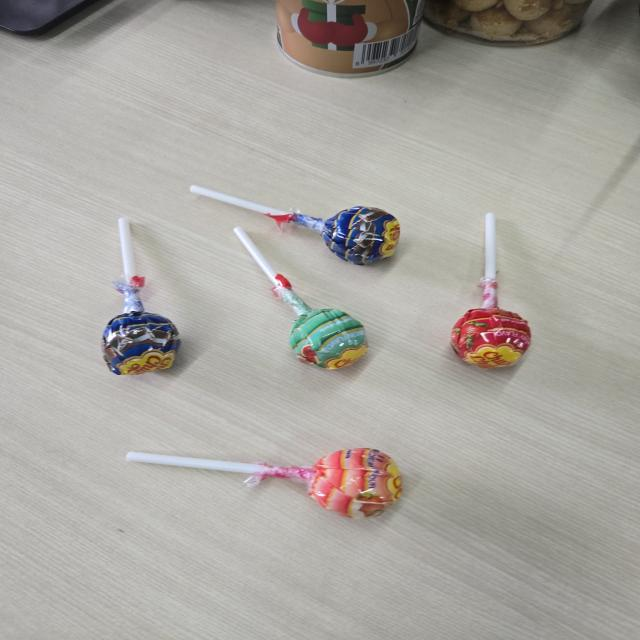lollipop: (228, 224, 374, 375), (126, 446, 407, 524), (188, 180, 404, 267), (448, 211, 537, 375), (101, 214, 187, 378)
